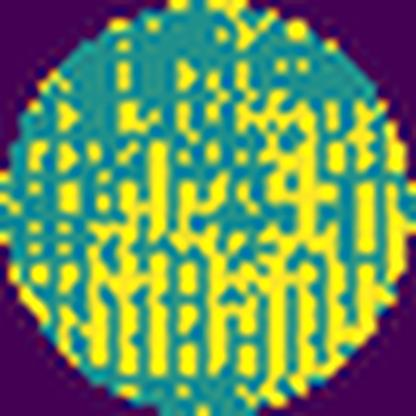Random: (0, 34, 415, 416)
